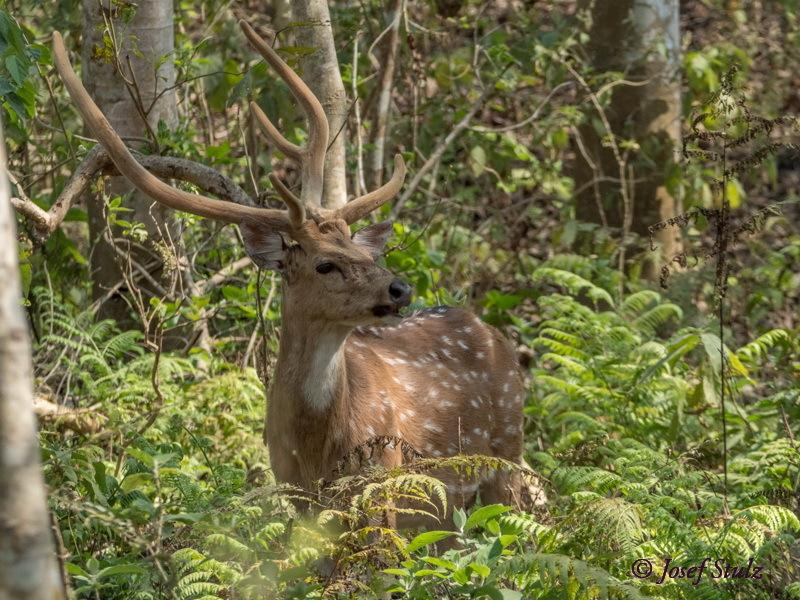Deer: (54, 20, 524, 487)
